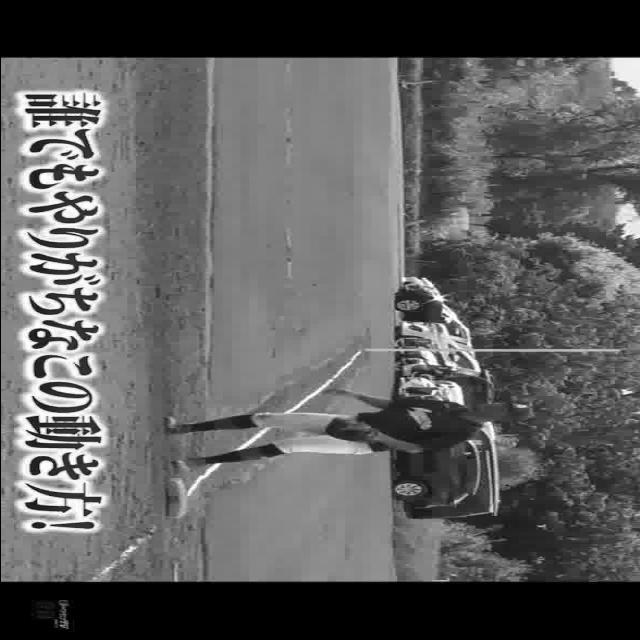base: (162, 477, 190, 522)
baseball_glove: (317, 417, 388, 445)
shoe: (155, 414, 191, 434), (172, 454, 208, 472)
